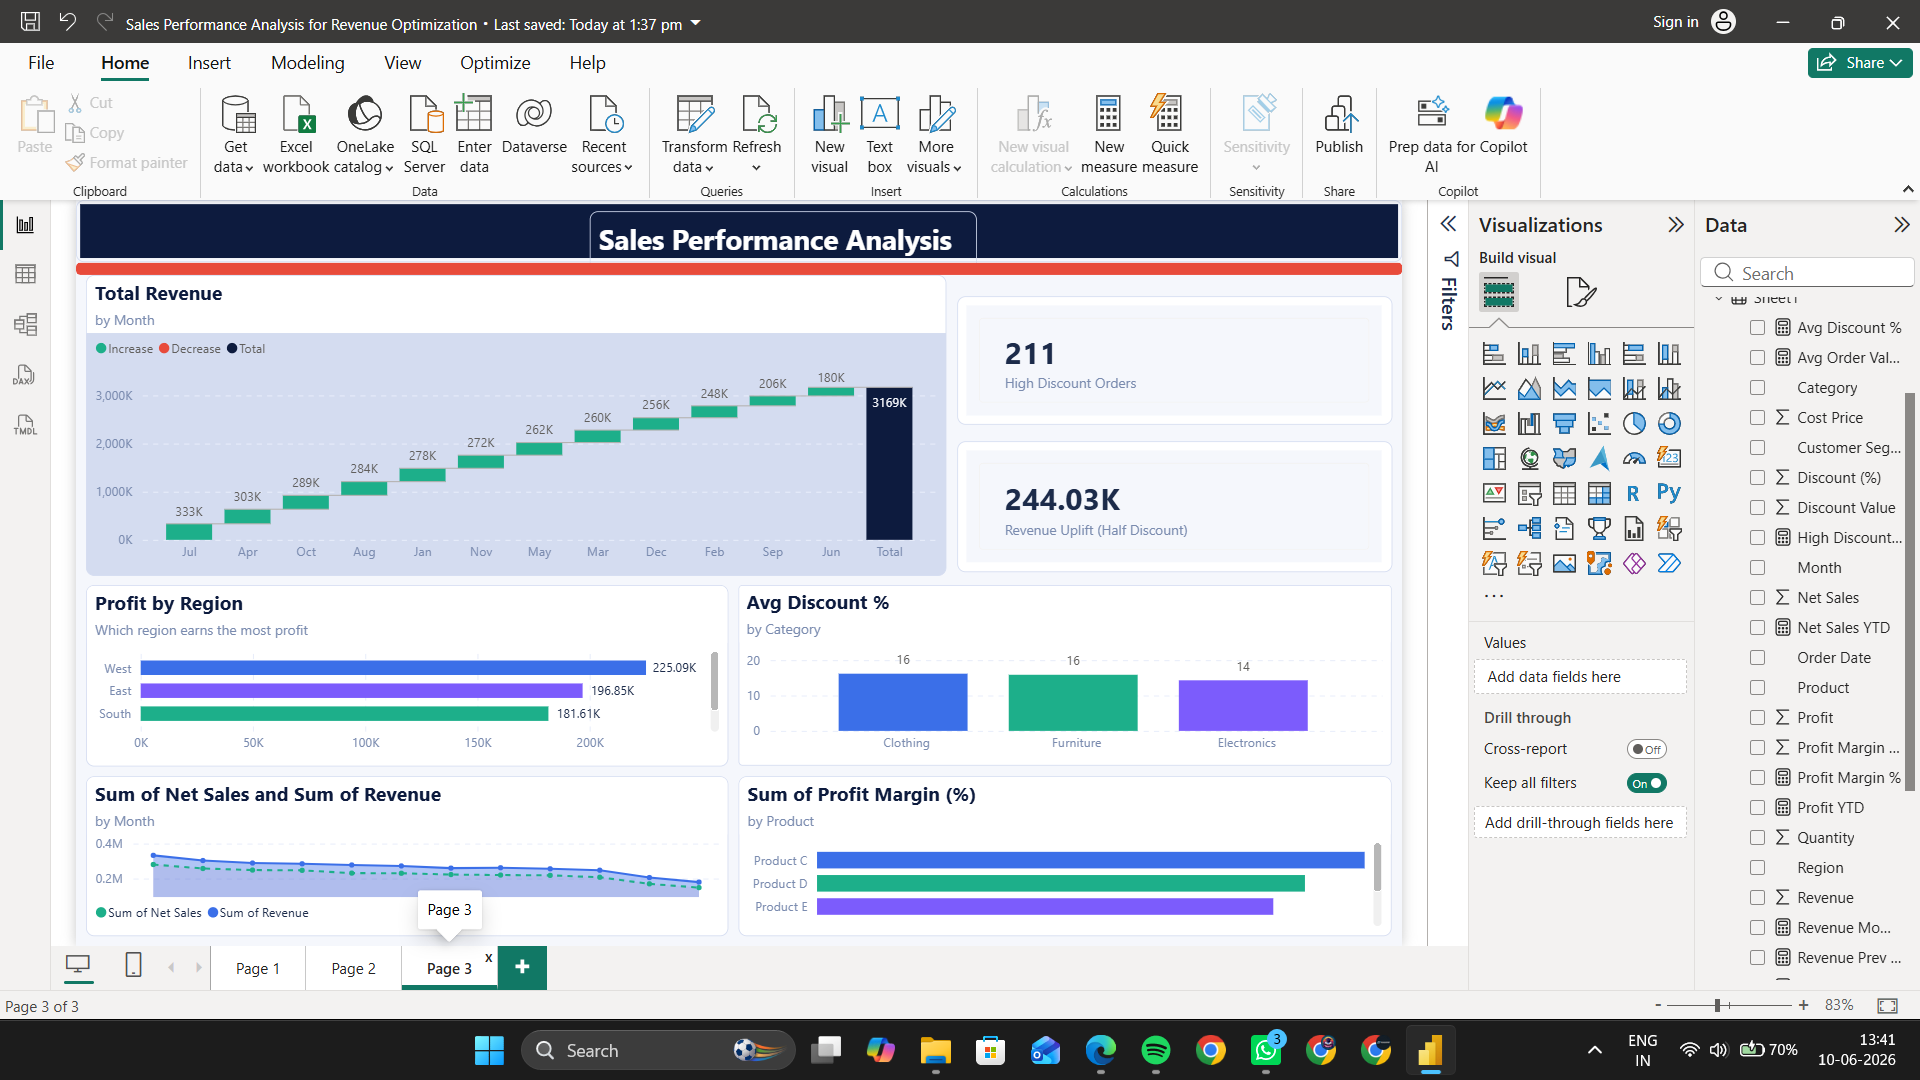

The page's visual inventory and layout, read from the dashboard file:
{"tool":"powerbi","page":{"name":"Page 3","canvas":[1280,720],"ordinal":2},"visuals":[{"type":"waterfallChart","fields":{"Category":["Sheet1.Month"],"Y":["Sheet1.Total Revenue"]},"box":[10,72.4,830,290],"z":0},{"type":"cardVisual","fields":{"Data":["Sheet1.High Discount Orders"]},"box":[850.5,92.9,419.8,124.3],"z":1000},{"type":"barChart","title":"Profit by Region","fields":{"Category":["Sheet1.Region"],"Y":["Sum(Sheet1.Profit)"]},"box":[9.7,371.6,620.1,174.9],"z":2000},{"type":"columnChart","fields":{"Y":["Sheet1.Avg Discount %"],"Category":["Sheet1.Category"]},"box":[640,372,630,174],"z":3000},{"type":"cardVisual","fields":{"Data":["Sheet1.Revenue Uplift (Half Discount)"]},"box":[850.5,232.8,419.8,126.7],"z":4000},{"type":"lineChart","fields":{"Category":["Sheet1.Month"],"Y":["Sum(Sheet1.Net Sales)","Sum(Sheet1.Revenue)"]},"box":[10,556,620,154],"z":5000},{"type":"barChart","fields":{"Category":["Sheet1.Product"],"Y":["Sum(Sheet1.Profit Margin (%))"]},"box":[640,556,630,154],"z":6000},{"type":"group","id":"g1","title":"Group 1","box":[0,0,1280,72],"z":7000},{"type":"shape","box":[0,0,1280,60.3],"z":9000,"group":"g1"},{"type":"textbox","box":[495.8,10.9,374,60.3],"z":10000,"group":"g1"},{"type":"shape","box":[0,60,1280,12],"z":11000,"group":"g1"}]}

Visuals, with their boxes on the page's 1280x720 design canvas (x1, y1, x2, y2). These are canvas units, not pixel positions in the 1920x1080 screenshot, which may show the page scaled, cropped or inside an application window:
waterfallChart - Sheet1.Month x Sheet1.Total Revenue: 10 72 840 362
cardVisual - Sheet1.High Discount Orders: 850 93 1270 217
"Profit by Region" barChart: 10 372 630 546
columnChart - Sheet1.Avg Discount % x Sheet1.Category: 640 372 1270 546
cardVisual - Sheet1.Revenue Uplift (Half Discount): 850 233 1270 360
lineChart - Sheet1.Month x Sum(Sheet1.Net Sales): 10 556 630 710
barChart - Sheet1.Product x Sum(Sheet1.Profit Margin (%)): 640 556 1270 710
"Group 1" group: 0 0 1280 72
shape: 0 0 1280 60
textbox: 496 11 870 71
shape: 0 60 1280 72
